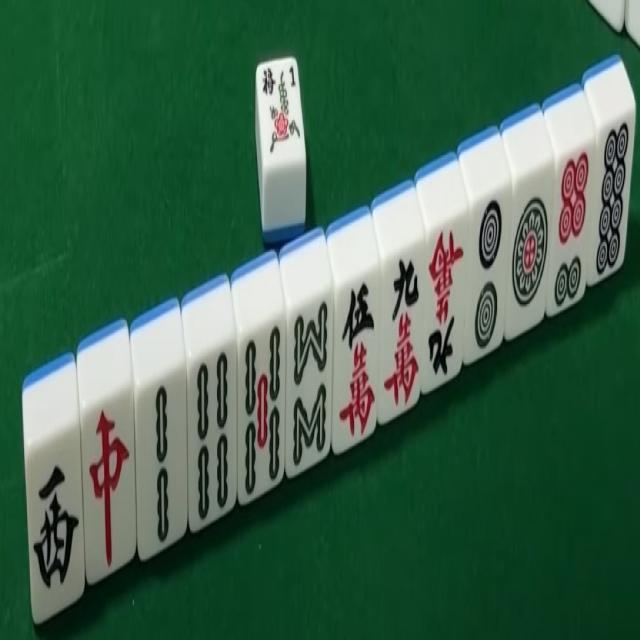1D: (512, 171, 554, 327)
1F: (258, 58, 304, 162)
2B: (137, 380, 185, 554)
2D: (469, 191, 507, 361)
4B: (190, 347, 236, 529)
5B: (237, 327, 283, 502)
5C: (336, 276, 378, 446)
6D: (551, 145, 591, 313)
8B: (288, 300, 331, 473)
8D: (596, 117, 630, 281)
9C: (425, 222, 466, 388), (385, 245, 425, 415)
RD: (87, 400, 136, 577)
WW: (31, 441, 84, 609)
